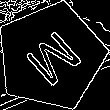M_SE: (16, 22, 85, 91)
